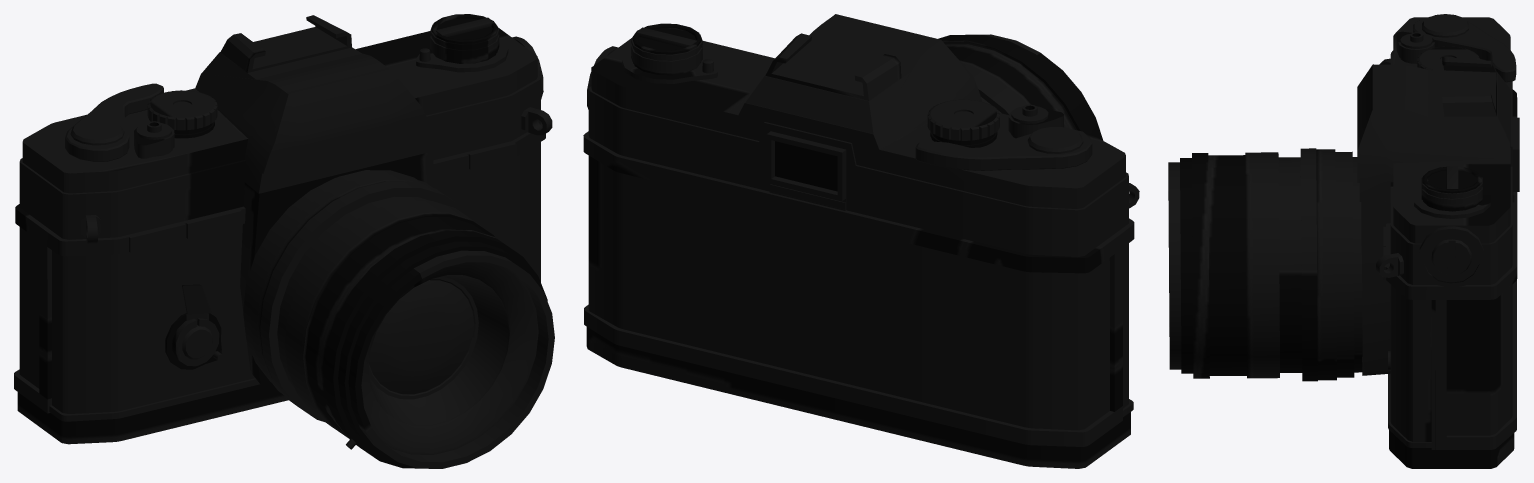
3 renders of one model, left to right at view 1: azimuth 30°, elevation 25°; view 2: azimuth 150°, elevation 25°; view 3: azimuth 270°, elevation 25°, orthographic. The views are drawn at different scales.
Visible parts, largest first — view 1: camera_props_unity_low_0; view 2: camera_props_unity_low_0; view 3: camera_props_unity_low_0.
Part boxes in pixels (x1,y1,x2,y2): camera_props_unity_low_0: (14,14,554,468); camera_props_unity_low_0: (583,14,1139,468); camera_props_unity_low_0: (1168,14,1519,468).
Bounding box in the file's own units: 110 × 69.83 × 75.93.
